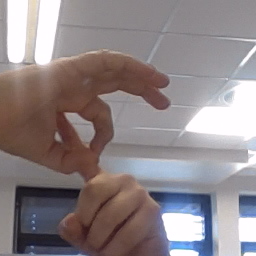OE: (3, 44, 187, 255)
